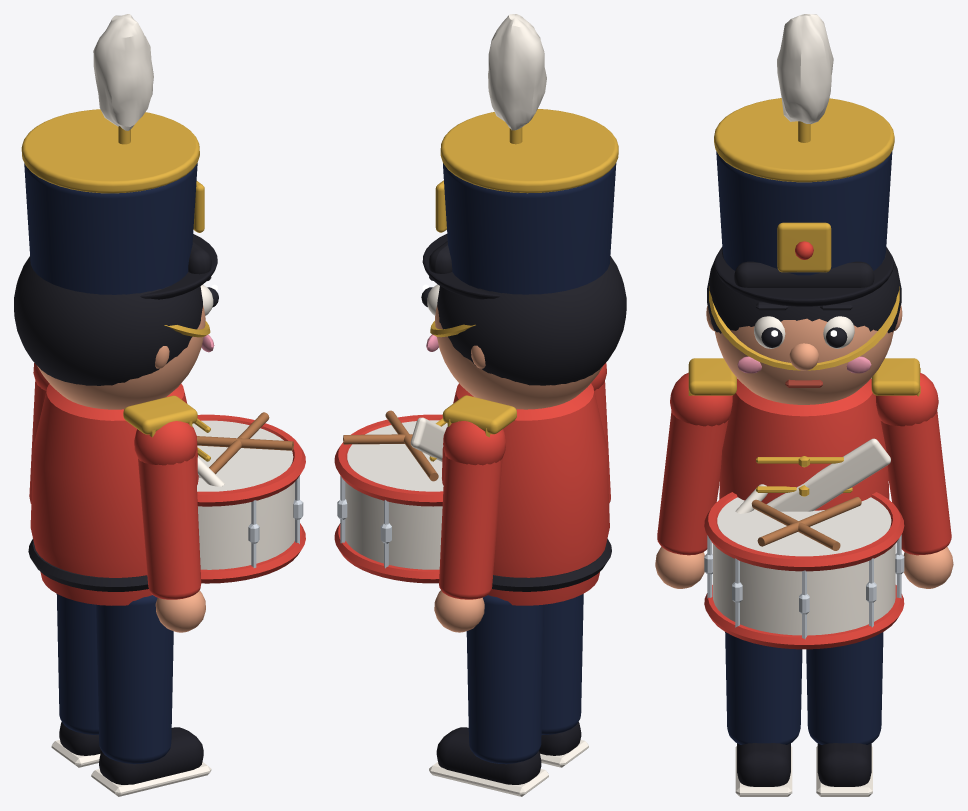
File: drummer.glb
The picture shows the model from 3 angles, left to right: view 1: azimuth 30°, elevation 25°; view 2: azimuth 150°, elevation 25°; view 3: azimuth 270°, elevation 25°; orthographic projection.
Visible parts, largest first — view 1: drummer; view 2: drummer; view 3: drummer.
Part boxes in pixels (x1,y1,x2,y2): drummer: (14,14,305,796); drummer: (334,14,626,796); drummer: (655,14,953,796).
Size of the model in its own units: 0.7049 by 1.9 by 0.6762.
Materials: 1 (1 with a texture image).
